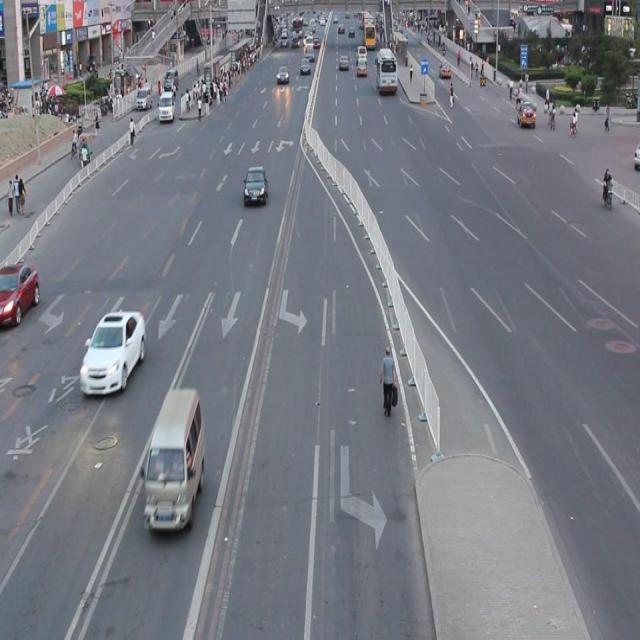BigCar: (377, 52, 400, 94)
car: (136, 394, 212, 540), (82, 304, 138, 396), (1, 257, 42, 331), (240, 168, 275, 215), (513, 94, 541, 132), (157, 94, 176, 126), (272, 62, 293, 90), (135, 85, 152, 112), (438, 52, 454, 80), (298, 55, 314, 78), (164, 70, 178, 92)
